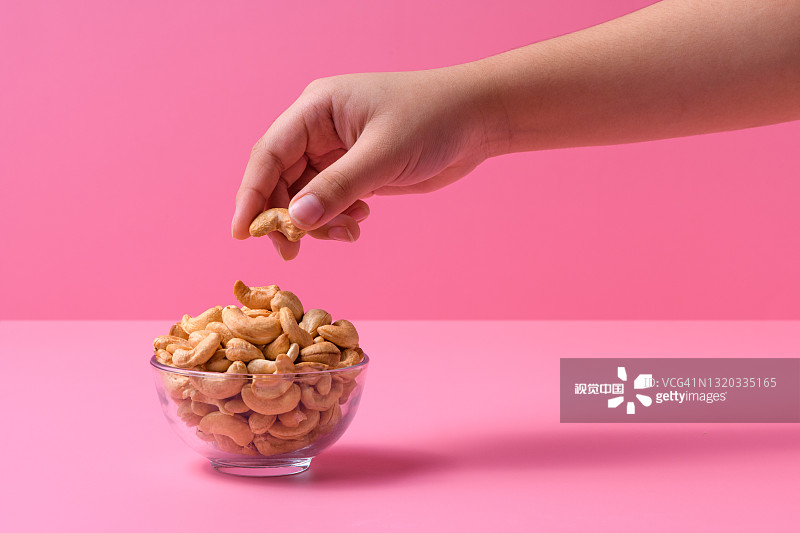no-phone: (223, 49, 536, 269)
